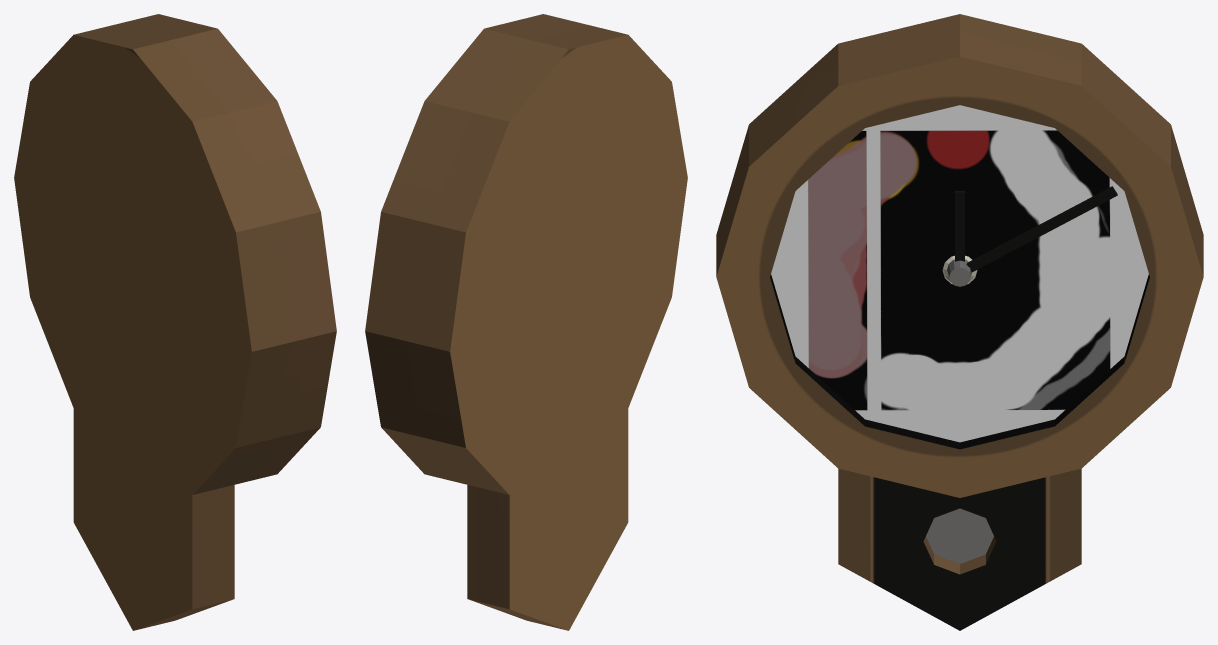
Rendered from TimeClock.fbx.
3 views of the same model, side by side, from view 1: azimuth 30°, elevation 25°; view 2: azimuth 150°, elevation 25°; view 3: azimuth 270°, elevation 25° (orthographic). The views are drawn at different scales.
Parts seen in each view (by area): view 1: TimeClock; view 2: TimeClock; view 3: TimeClock, TimeClock2, MinuteHand, hourHand.
Boxes of the visible parts, box(x1,y1,x2,y2) form: TimeClock: box(14, 14, 336, 630); TimeClock: box(365, 14, 687, 630); TimeClock: box(716, 14, 1203, 630); TimeClock2: box(771, 105, 1148, 442); MinuteHand: box(966, 186, 1117, 272); hourHand: box(955, 191, 964, 261).
Size of the model in its own units: 0.9904 by 6.48 by 4.8.
